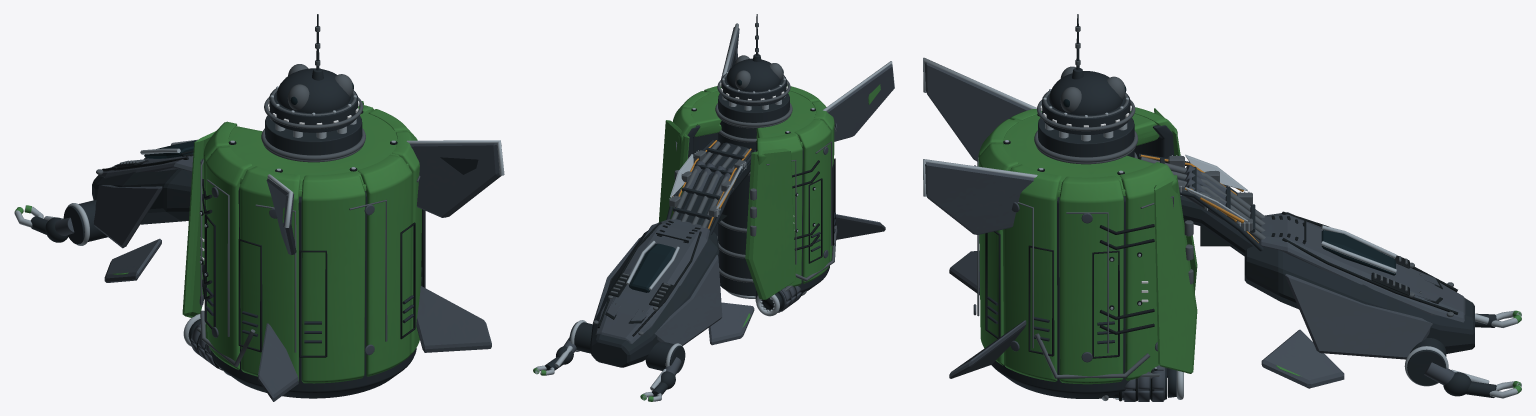
The model's file is aegis.glb.
The picture shows the model from 3 angles, left to right: view 1: azimuth 30°, elevation 25°; view 2: azimuth 150°, elevation 25°; view 3: azimuth 270°, elevation 25°; orthographic projection. The views are drawn at different scales.
Parts seen in each view (by area): view 1: aegis.001; view 2: aegis.001; view 3: aegis.001.
Part boxes in pixels (x1=…): aegis.001: x1=14, y1=14, x2=504, y2=401; aegis.001: x1=533, y1=14, x2=894, y2=401; aegis.001: x1=923, y1=14, x2=1521, y2=401.
Bounding box in the file's own units: 2.38 × 3.67 × 5.47.
Materials: 10 (10 with a texture image).
